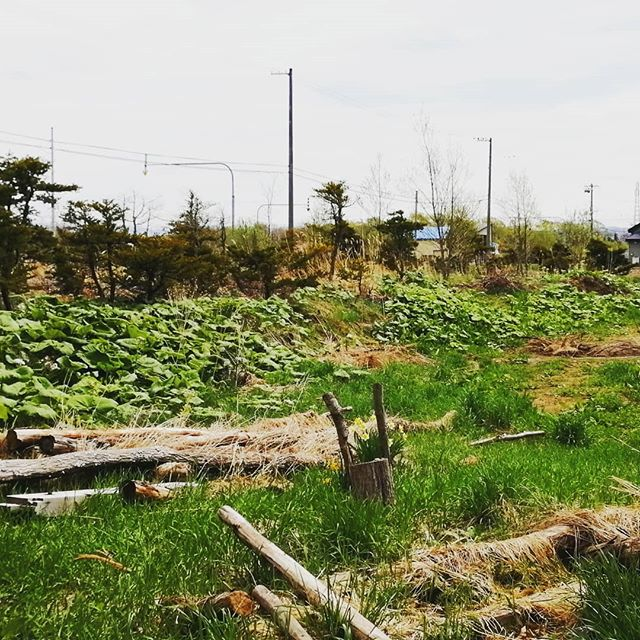sky: (1, 1, 633, 205)
vegetation: (1, 240, 640, 640)
